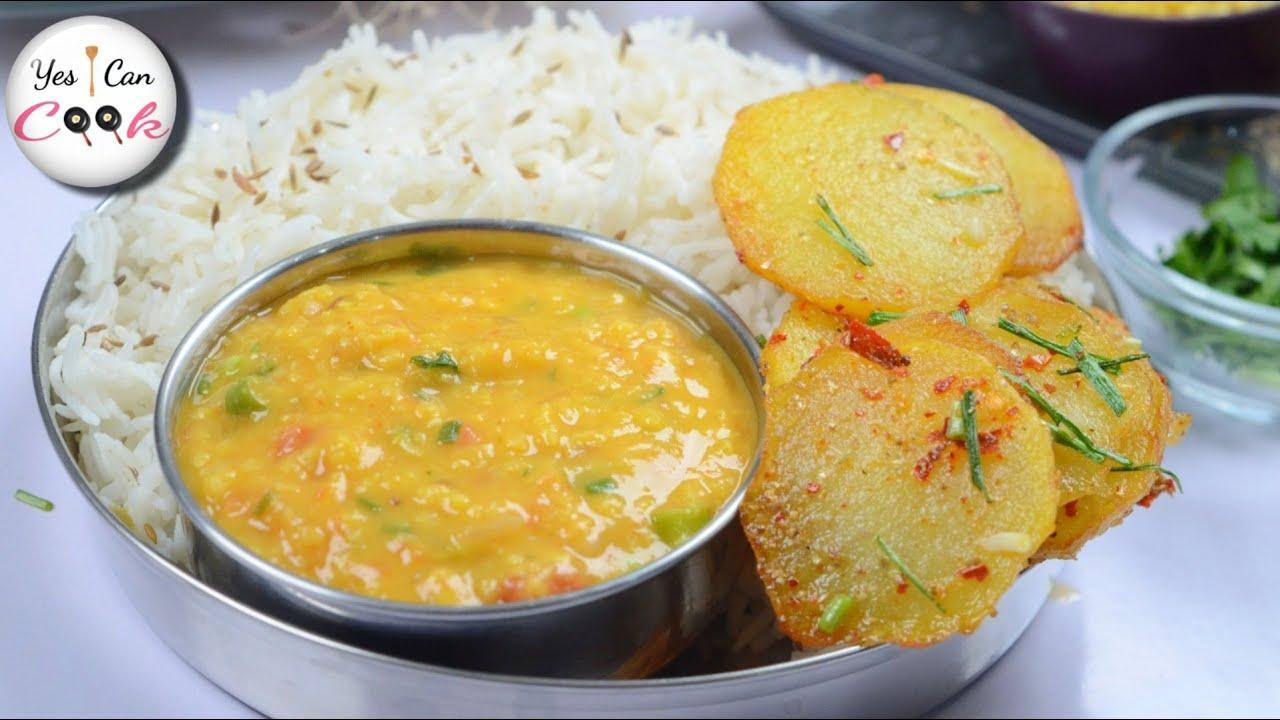dal: (190, 255, 747, 602)
rice: (62, 0, 845, 569)
